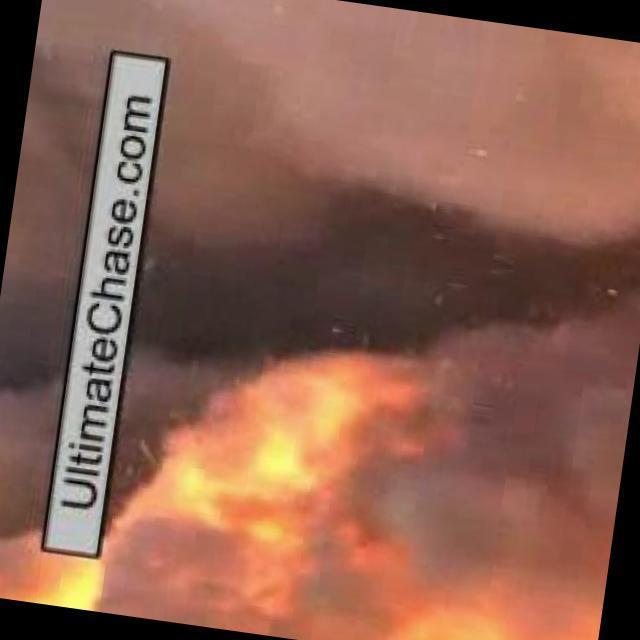Fire: (1, 303, 634, 640)
